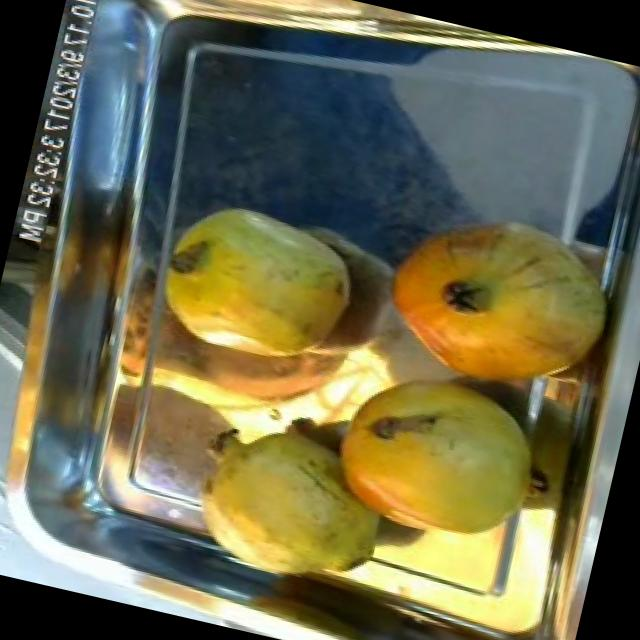fruit: (298, 341, 588, 585), (353, 180, 635, 420), (134, 182, 387, 392)
